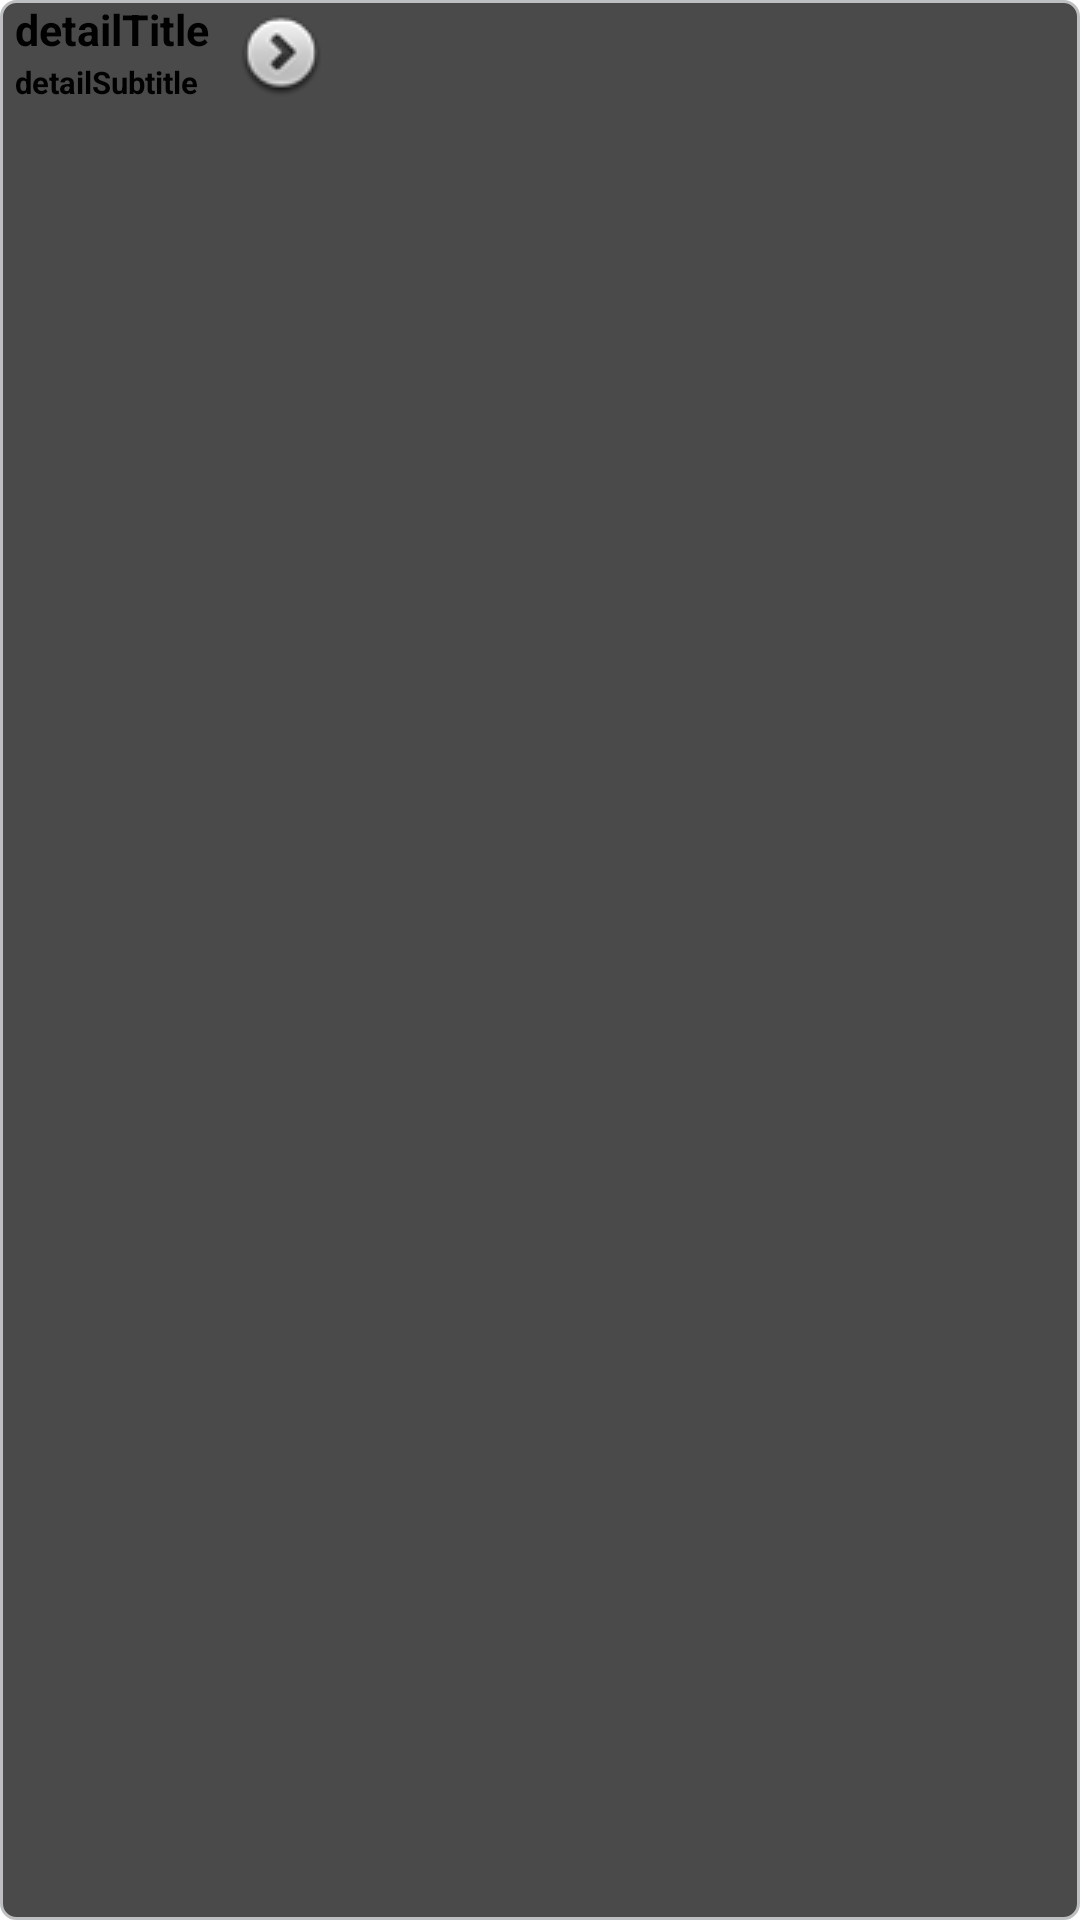

Icon bounding boxes for this 1080×1920 phone screenshot, format [x1, y1, x2, y2]:
expander: [246, 17, 316, 91]
